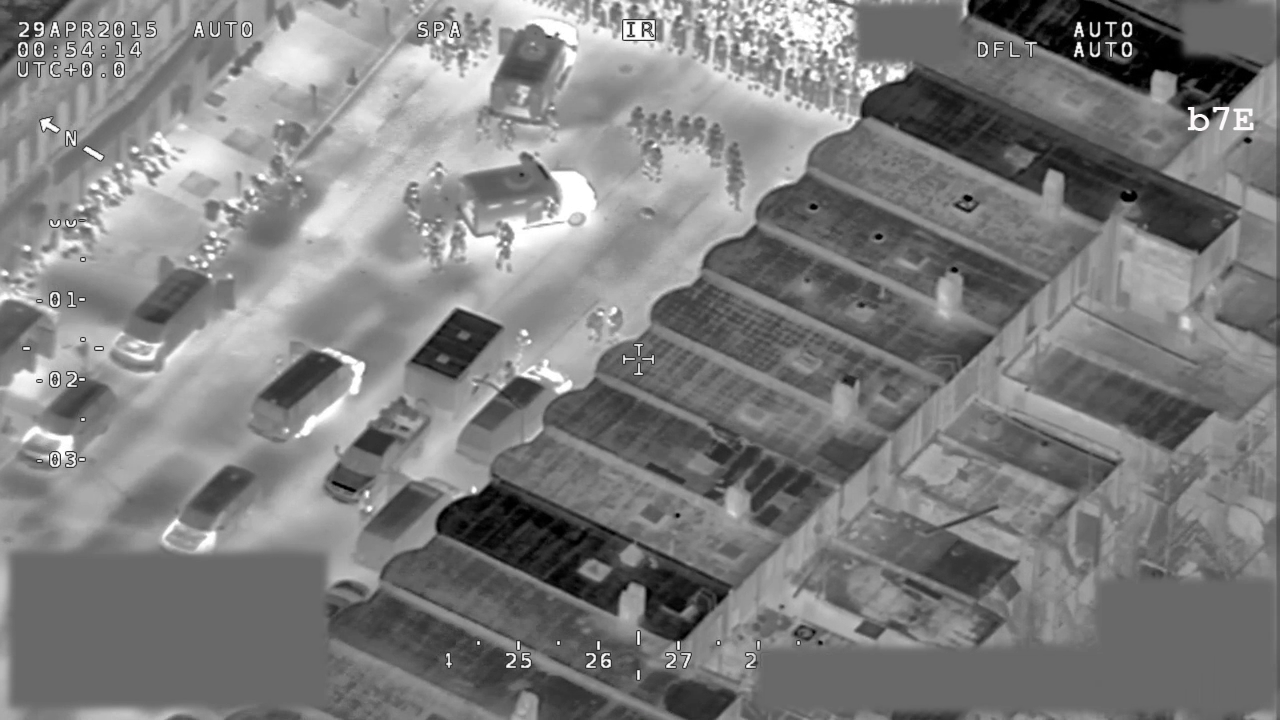vehicle: (108, 256, 235, 374), (243, 337, 369, 446), (453, 148, 600, 241), (320, 398, 433, 509), (457, 365, 574, 472), (400, 307, 506, 416), (354, 476, 460, 575), (487, 17, 581, 124), (13, 377, 117, 473), (159, 465, 260, 555)
